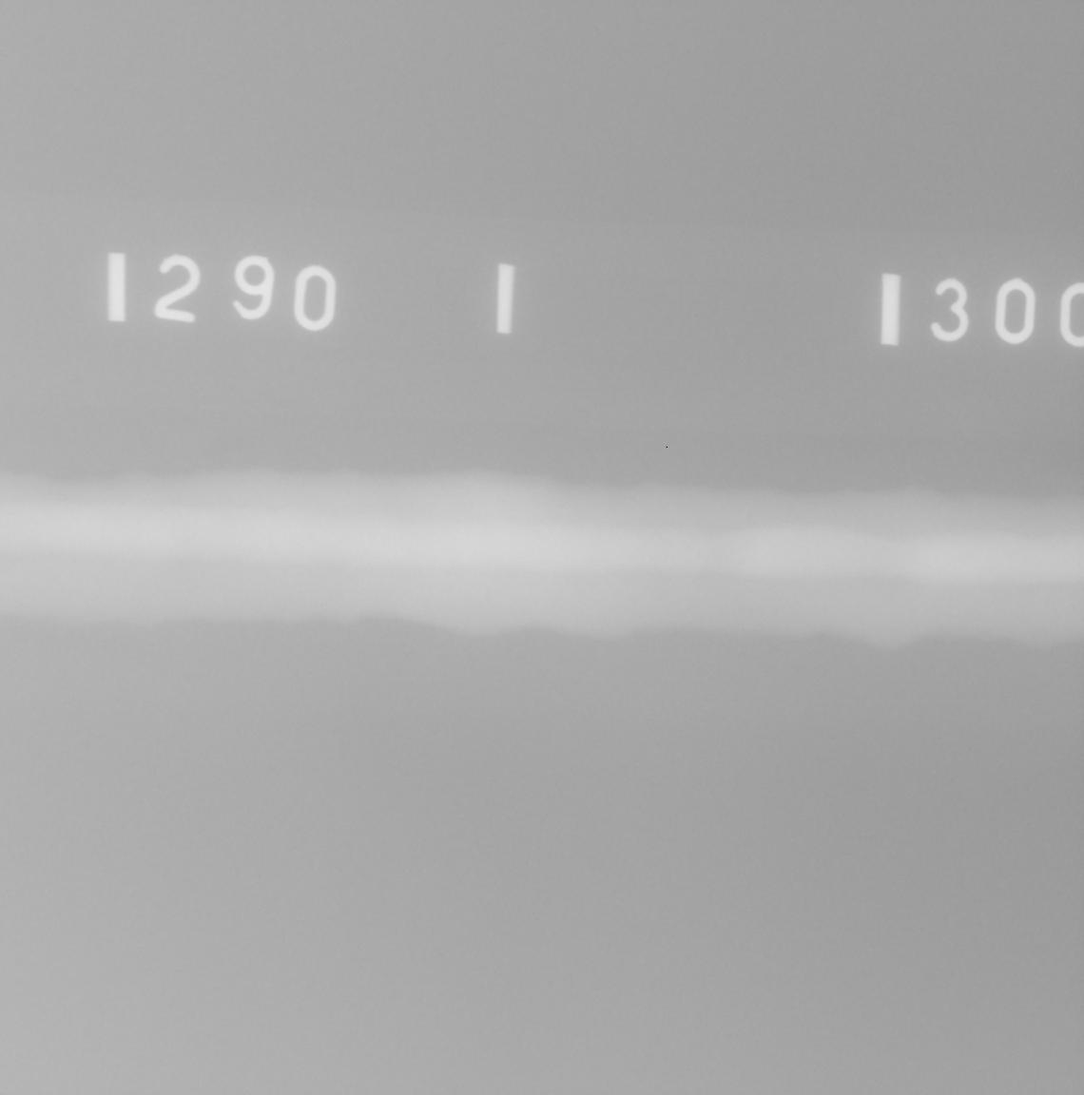Pore/Porosity: (534, 530, 539, 534)
